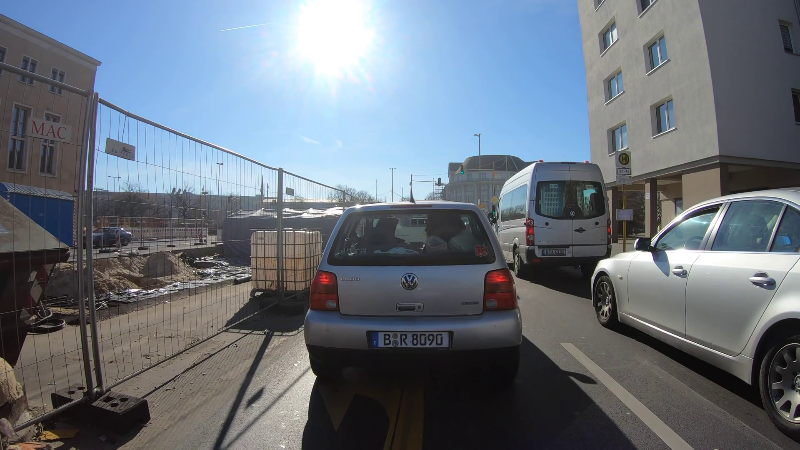Plate: (368, 330, 452, 350), (540, 247, 569, 257)
